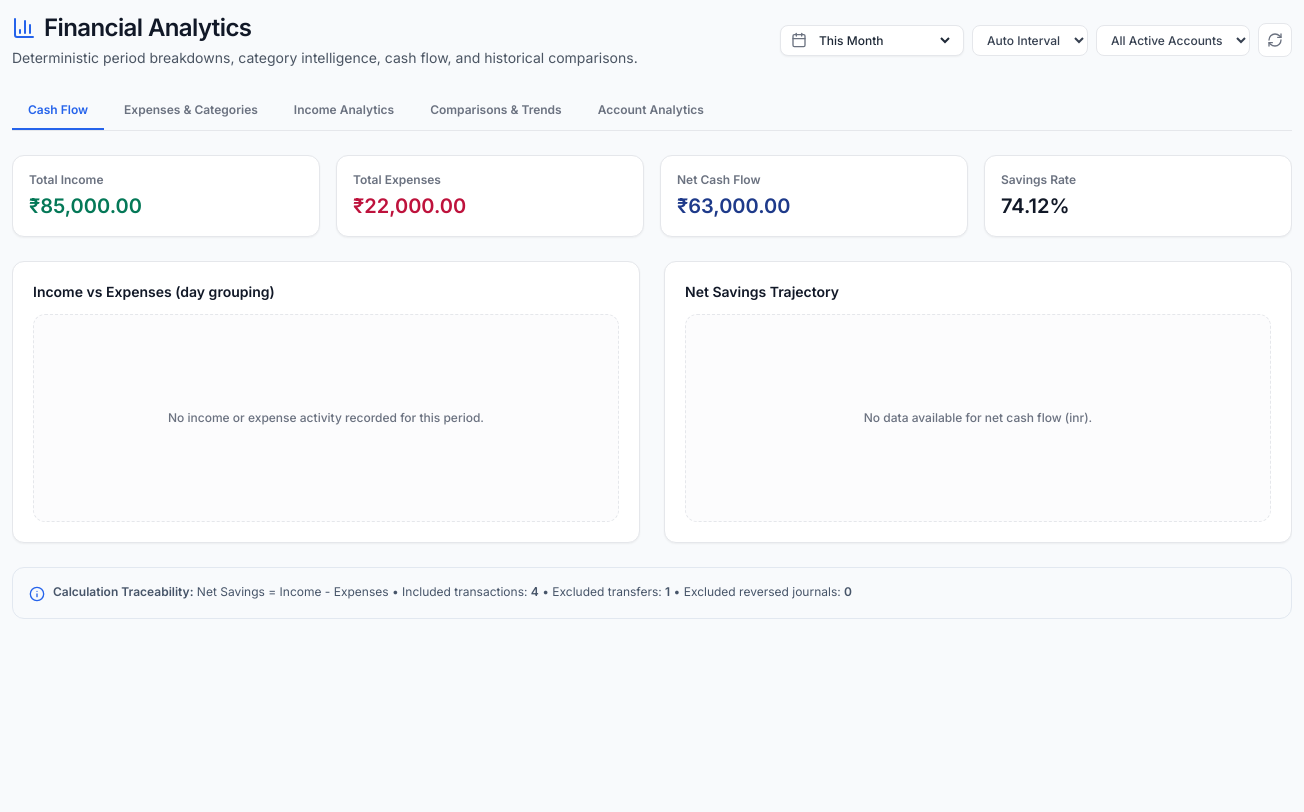
Test: Phase 4 Frontend Dashboard, Analytics & Reports › renders Analytics tabs (Cash Flow, Expenses, Income, Comparisons, Accounts) cleanly
Check: the text "₹63,000.00" is shown, box [677,194,790,218]
Check: the text "74.12%" is shown, box [1001,194,1070,218]
Click the button "Expenses & Categories". click: x=191, y=111
box: [108,92,274,130]
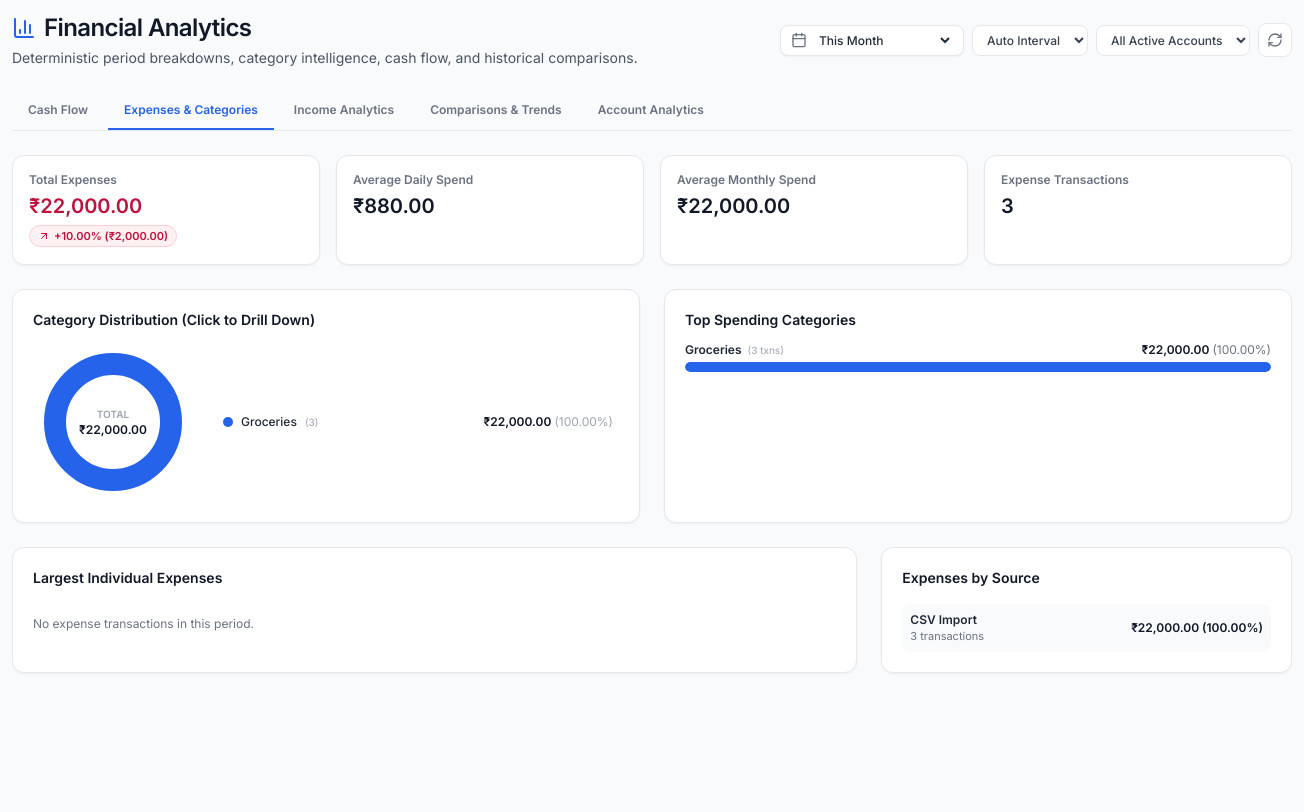
Check: the text "Average Daily Spend" is shown, box [353,172,473,187]
Check: the text "CSV Import" is shown, box [910,612,984,628]
Click the button "Comparisons & Trends". click: x=496, y=111
box: [414,92,578,130]
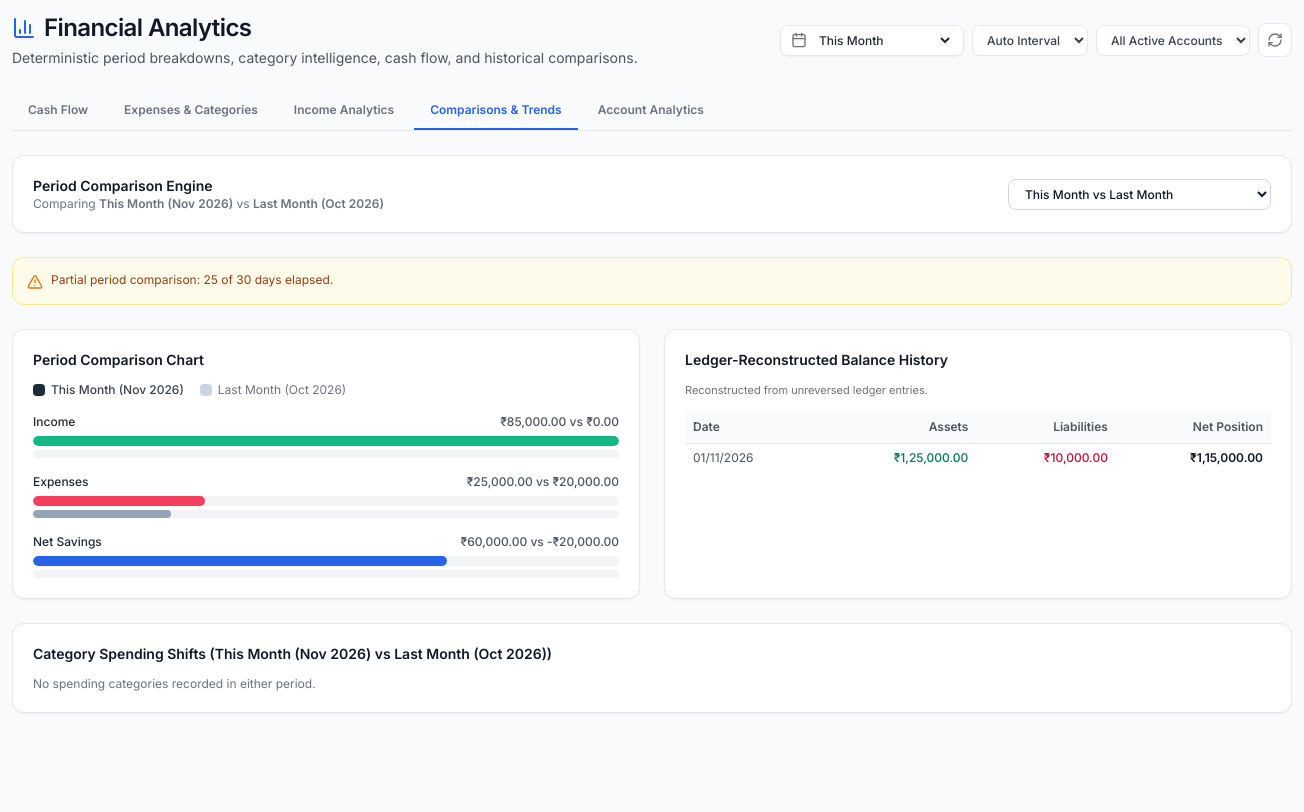
Check: the text "Partial period comparison: 25 of 30 days elapsed." is shown, box [51,272,333,288]
Click the button "Account Analytics". click: x=651, y=111
box: [582,92,720,130]
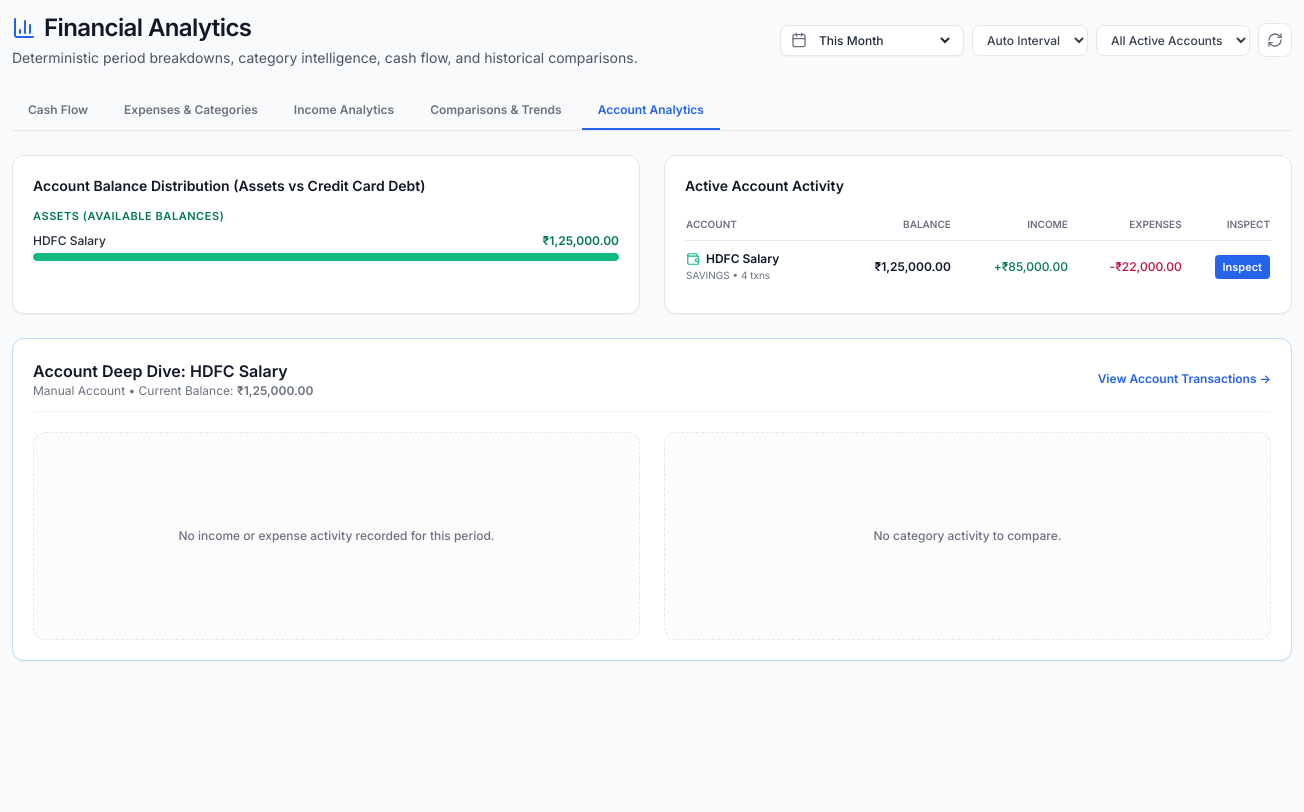
Check: the heading "Account Deep Dive: HDFC Salary" is shown, box [33,359,313,383]
